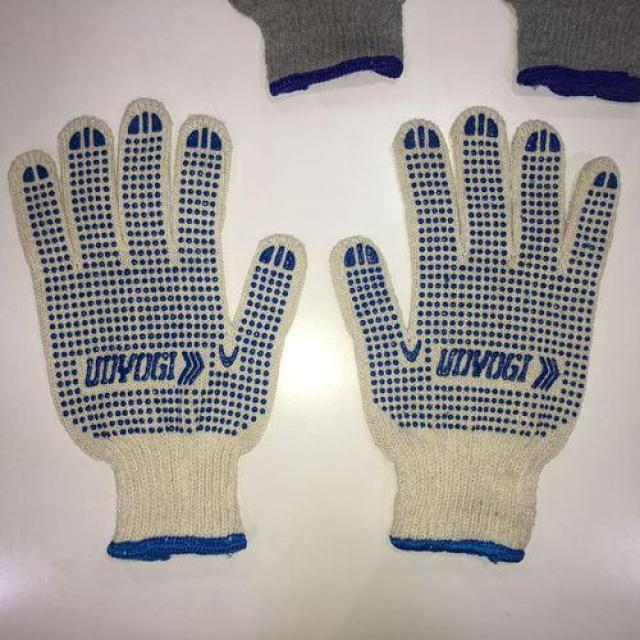gloves: (5, 99, 309, 560), (328, 102, 620, 566)
